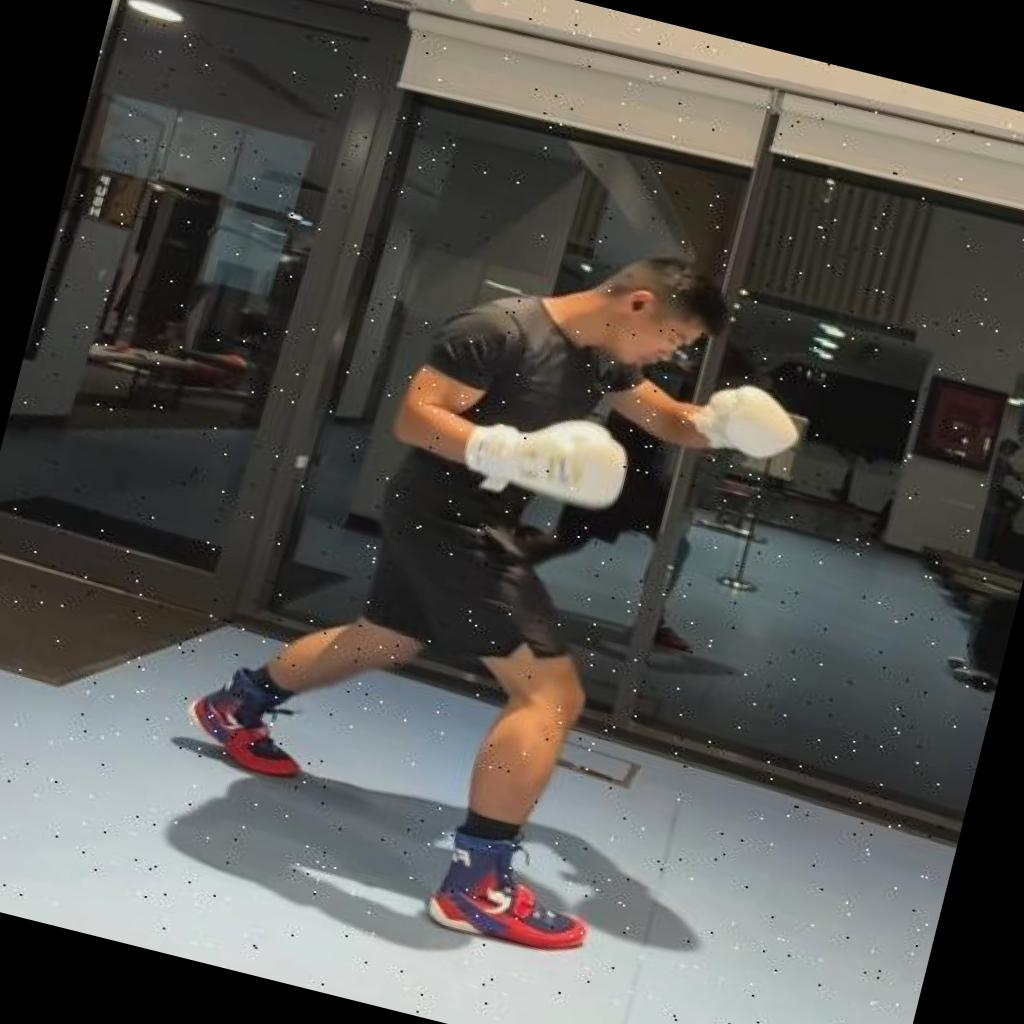uppercut: (152, 162, 846, 994)
